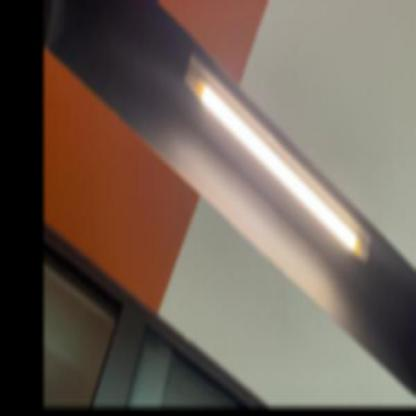light_on: (173, 43, 377, 274)
